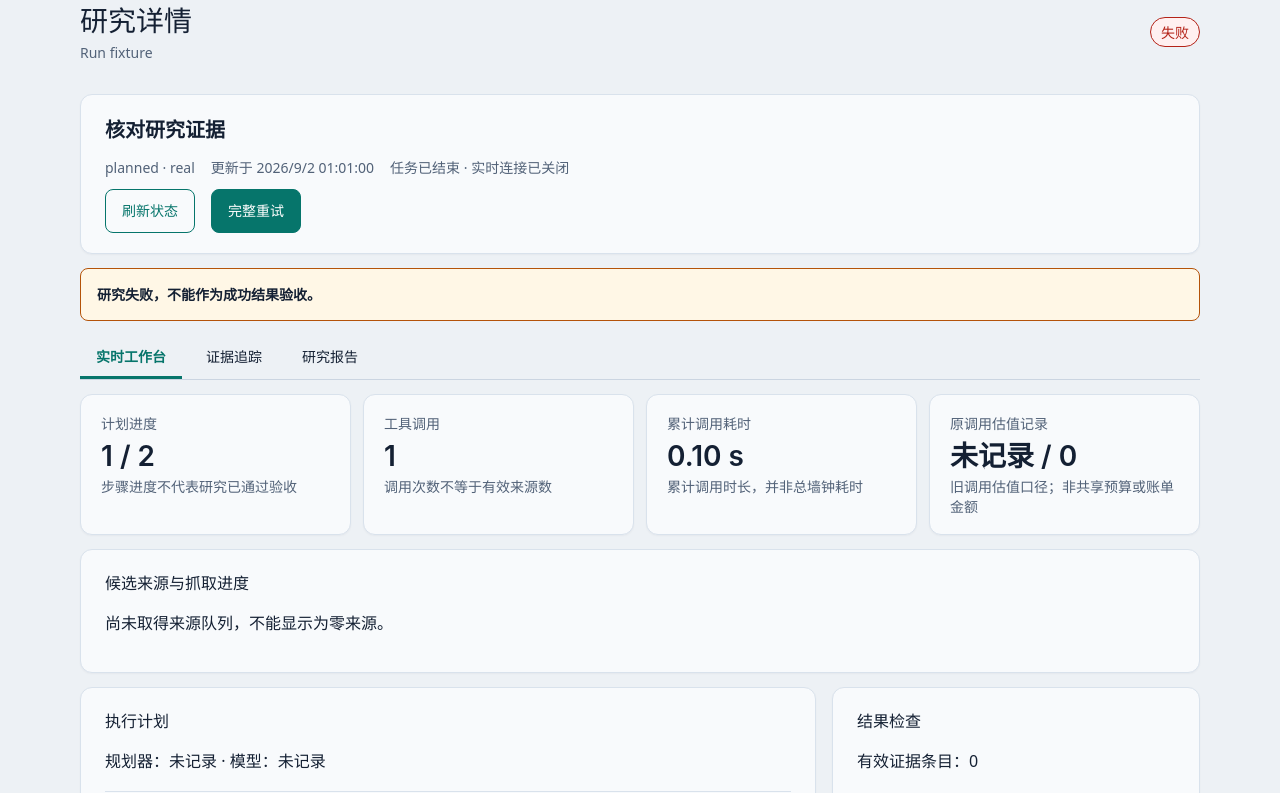
Test: does not silently retry a failed mutation
Click the button "完整重试". click: click(256, 211)
box: [211, 189, 301, 233]
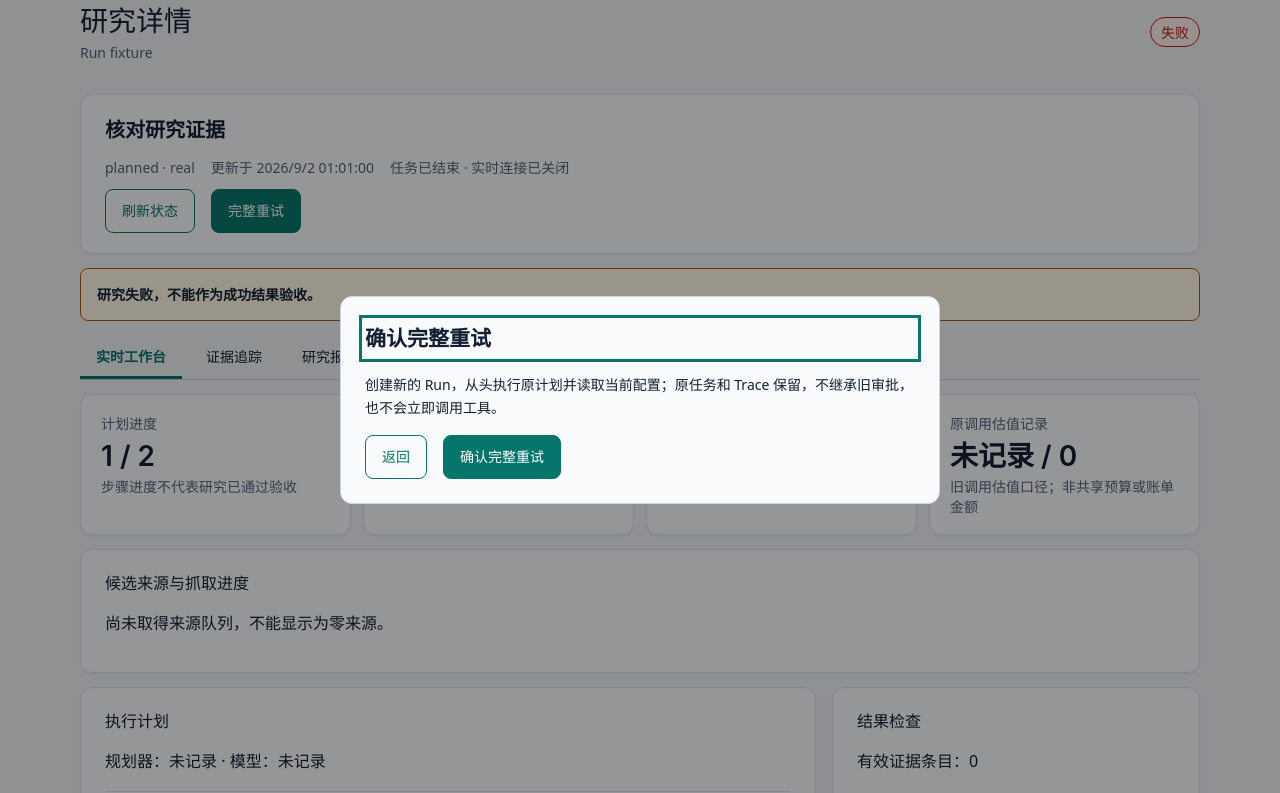
Click the button "确认完整重试". click: click(502, 457)
box: [443, 435, 561, 479]
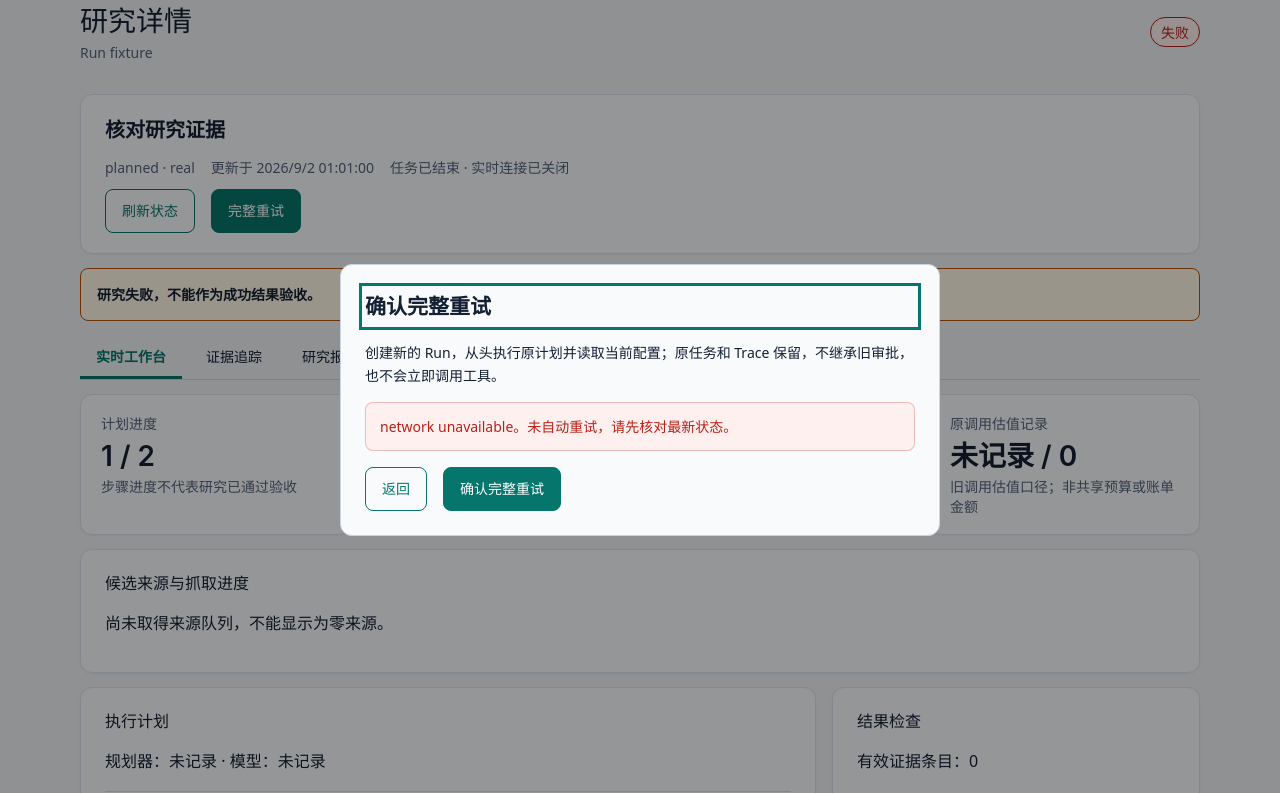
Expected: the text "network unavailable。未自动重试，请先核对最新状态。" is shown, [365, 402, 915, 451]
